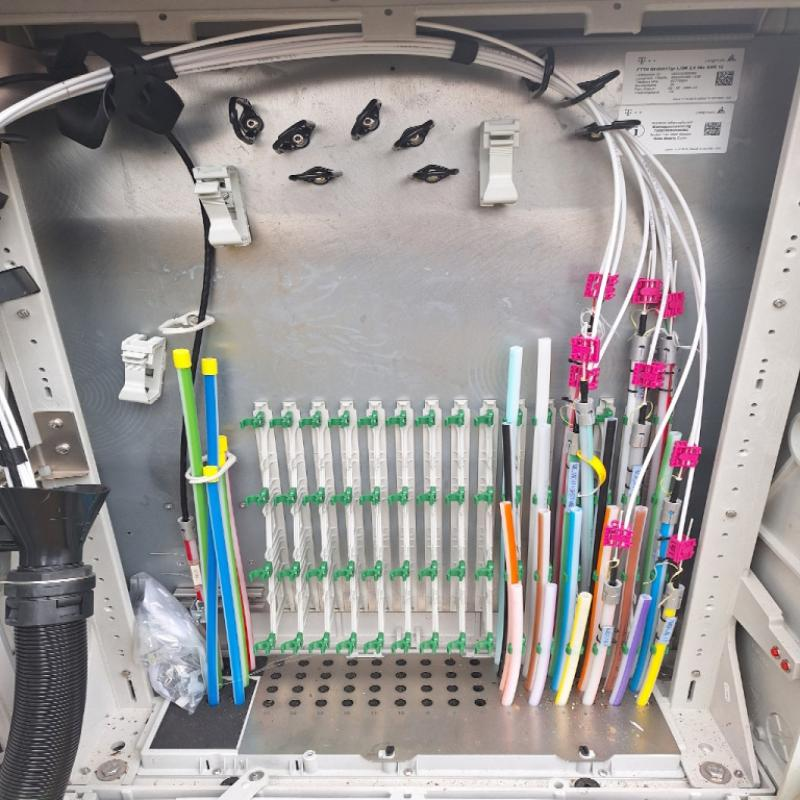NT-Gehause: (2, 3, 779, 780)
